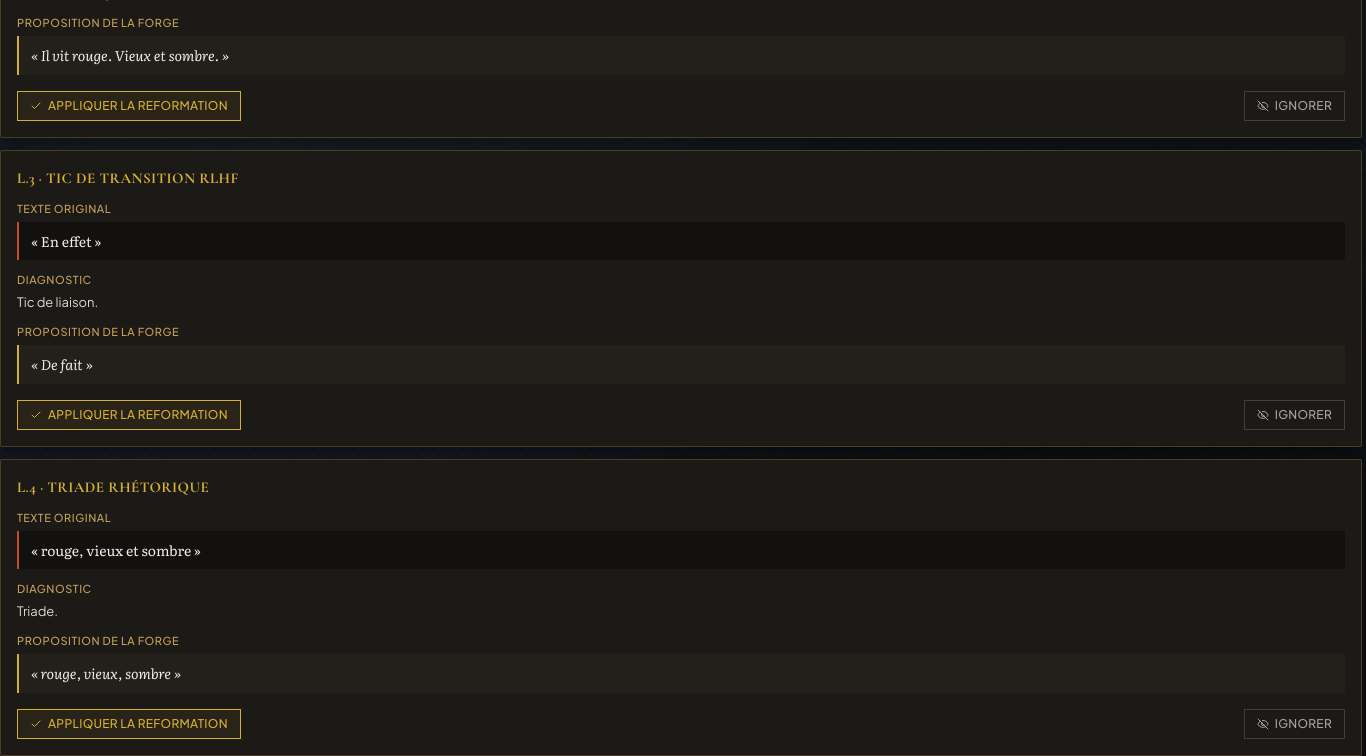
Scenario: surfaces a post-apply audit failure instead of presenting stale metrics as current
The width and height of the screenshot is (1366, 756).
(page scrolled)
Click the button "Appliquer la reformation" below "De fait" at (129, 414), box [17,400,241,430]
(page scrolled)
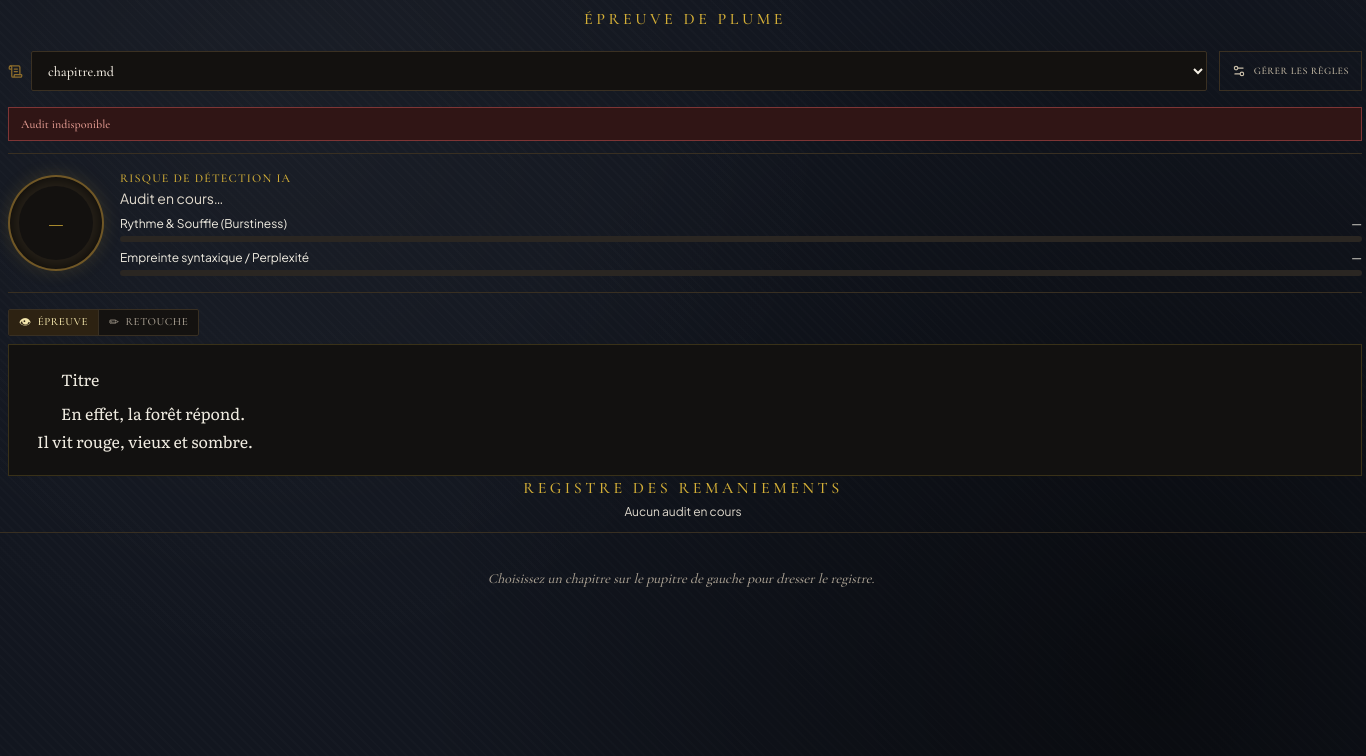
expect the message "Audit indisponible" is shown: met, box [8,107,1362,141]
expect the message reads "Audit indisponible": met, box [21,117,110,131]
